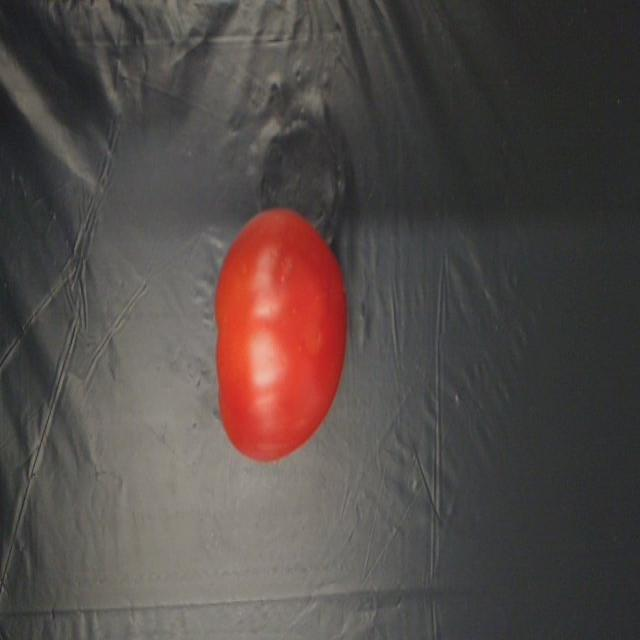kirmizi: (188, 186, 358, 480)
